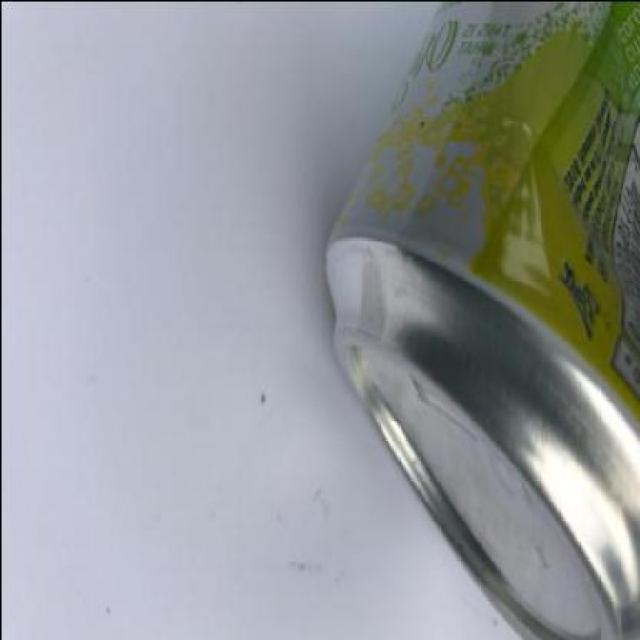METAL: (318, 1, 640, 638)
